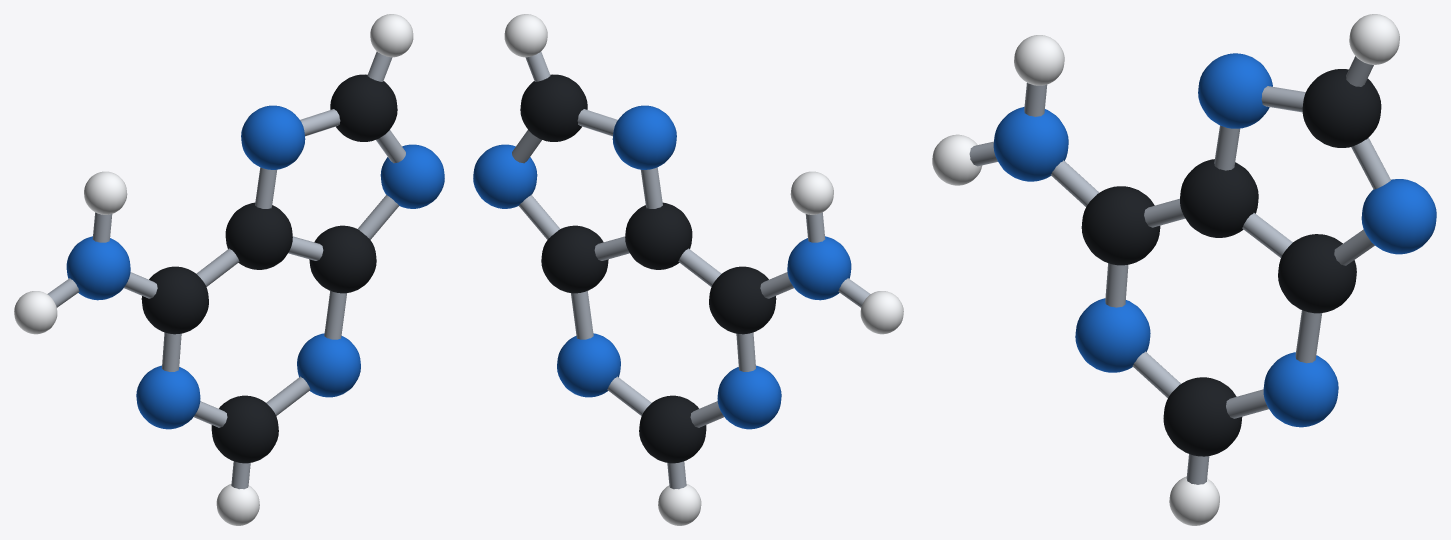
Rendered from adenine.glb.
3 renders of one model, left to right at view 1: azimuth 30°, elevation 25°; view 2: azimuth 150°, elevation 25°; view 3: azimuth 330°, elevation 25°, orthographic. The views are drawn at different scales.
Parts seen in each view (by area): view 1: Baza_A; view 2: Baza_A; view 3: Baza_A.
Boxes of the visible parts, x1,y1,x2,y2 form: Baza_A: (14,14,444,525); Baza_A: (473,14,903,525); Baza_A: (932,14,1436,525).
Bounding box in the file's own units: 2.12 × 2.25 × 0.294.
